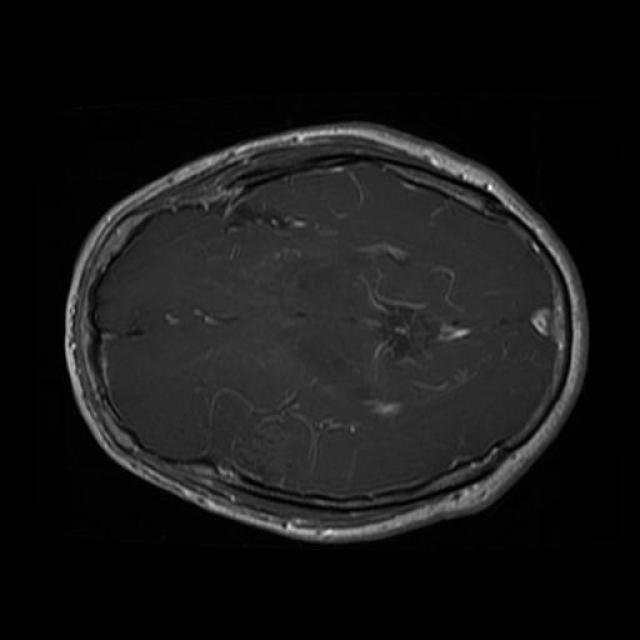Glioma: (198, 394, 317, 491)
